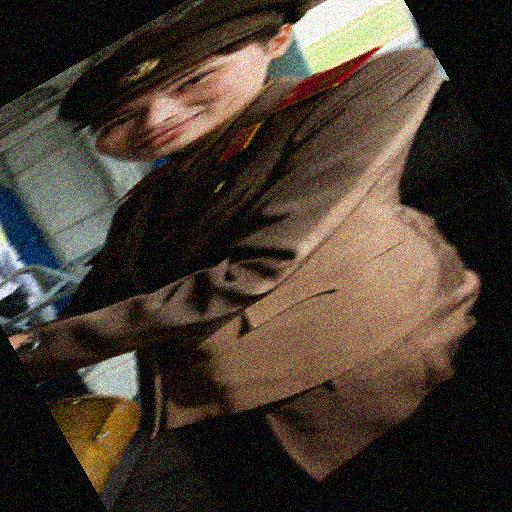north army: (55, 0, 457, 493)
